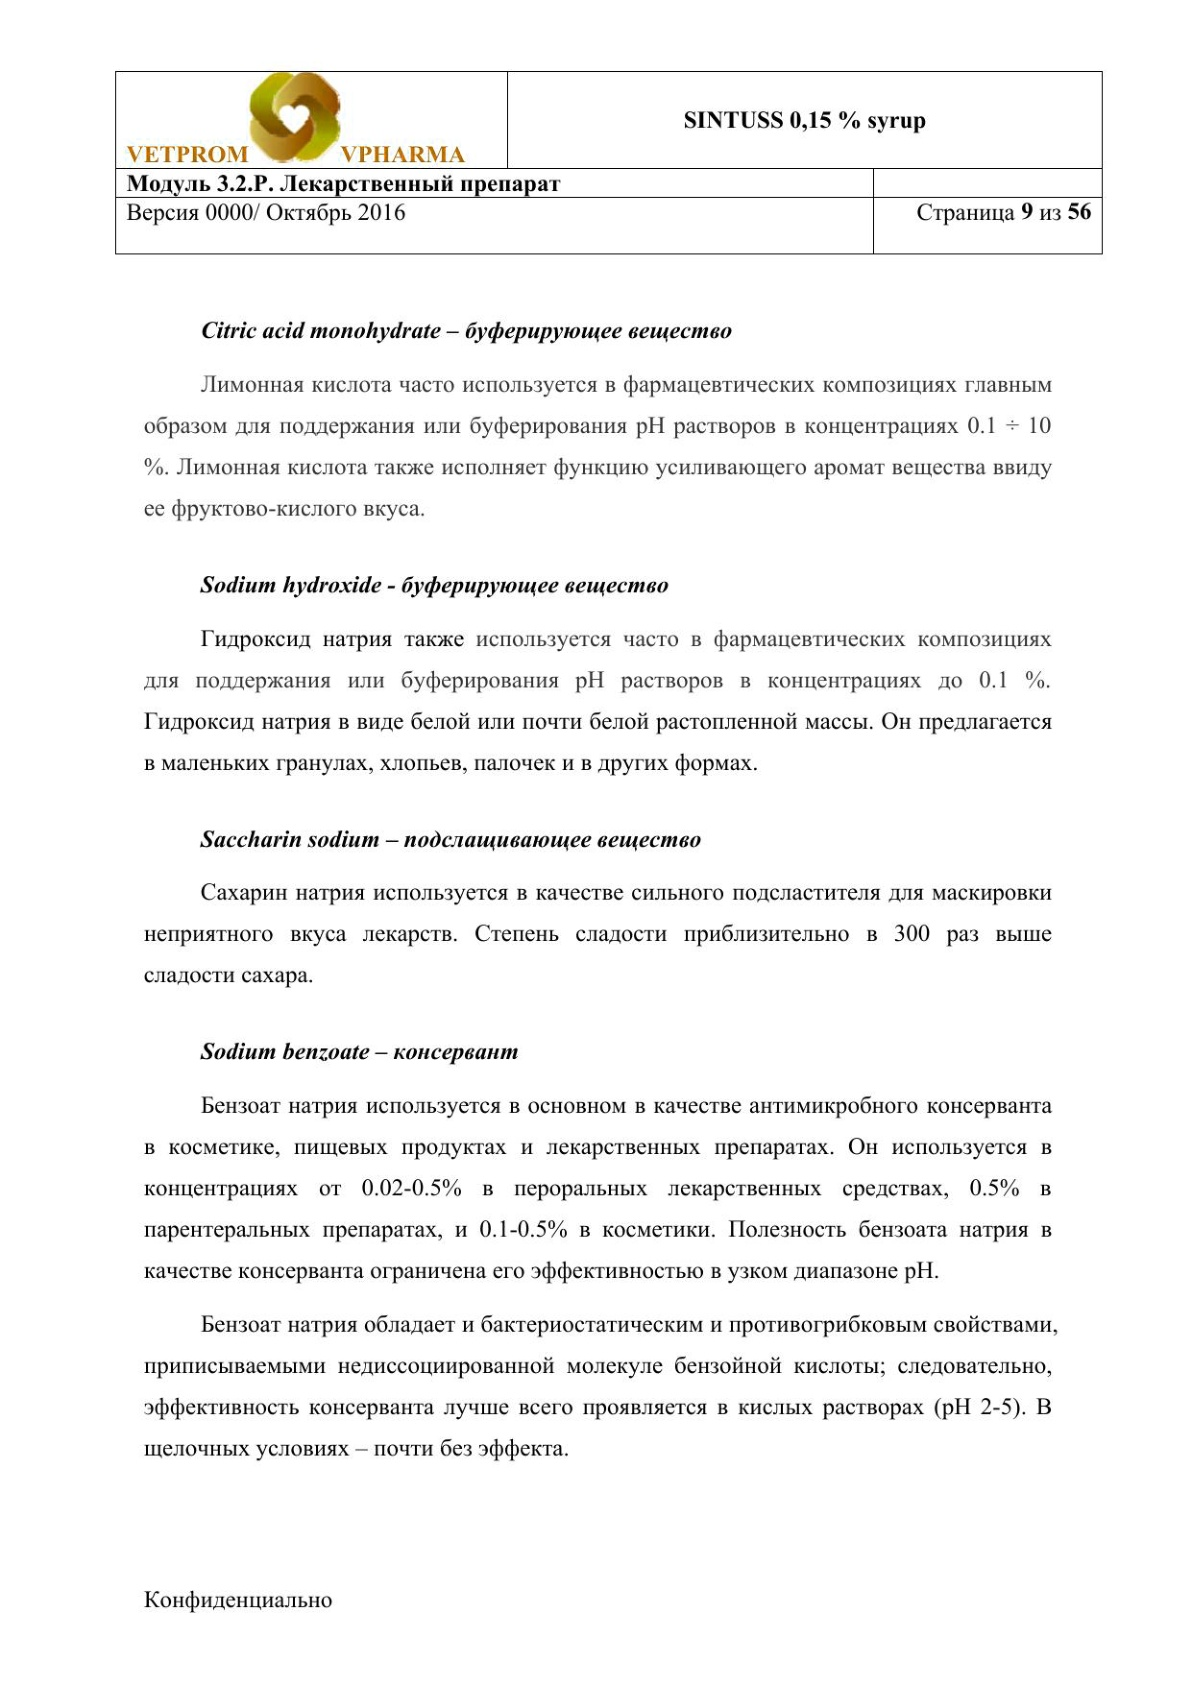merged_cells: (114, 68, 1103, 255)
